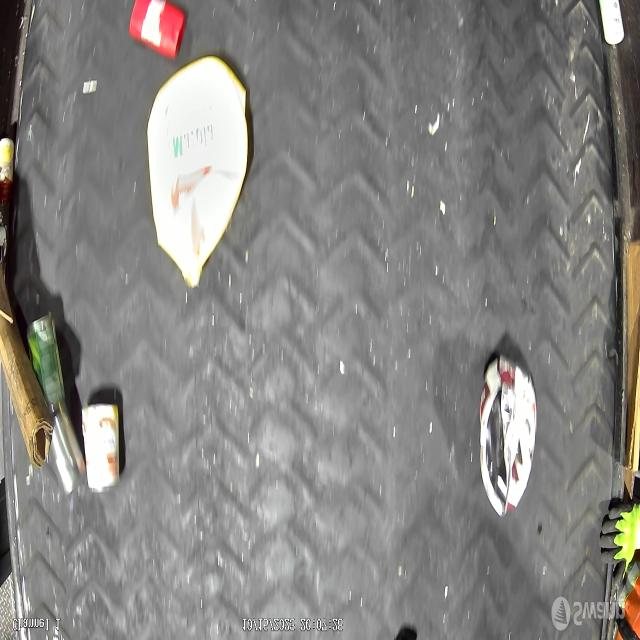can: (26, 313, 67, 414), (80, 402, 120, 496), (47, 412, 88, 498)
non_white_jug: (146, 53, 250, 290)
